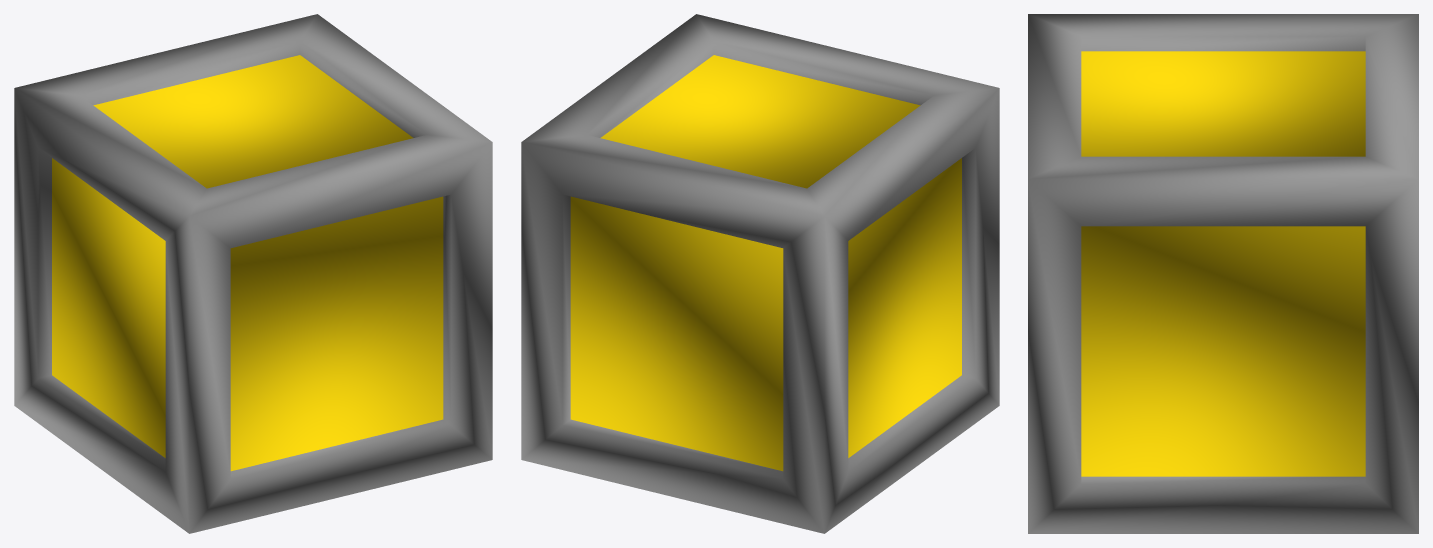
File: CrateC.fbx
The picture shows the model from 3 angles, left to right: view 1: azimuth 30°, elevation 25°; view 2: azimuth 150°, elevation 25°; view 3: azimuth 270°, elevation 25°; orthographic projection. The views are drawn at different scales.
Parts seen in each view (by area): view 1: Obj_CrateC; view 2: Obj_CrateC; view 3: Obj_CrateC.
Boxes of the visible parts, <box> form: Obj_CrateC: <box>14,14,492,533</box>; Obj_CrateC: <box>521,14,999,533</box>; Obj_CrateC: <box>1028,14,1418,533</box>.
Bounding box in the file's own units: 399 × 399 × 400.
